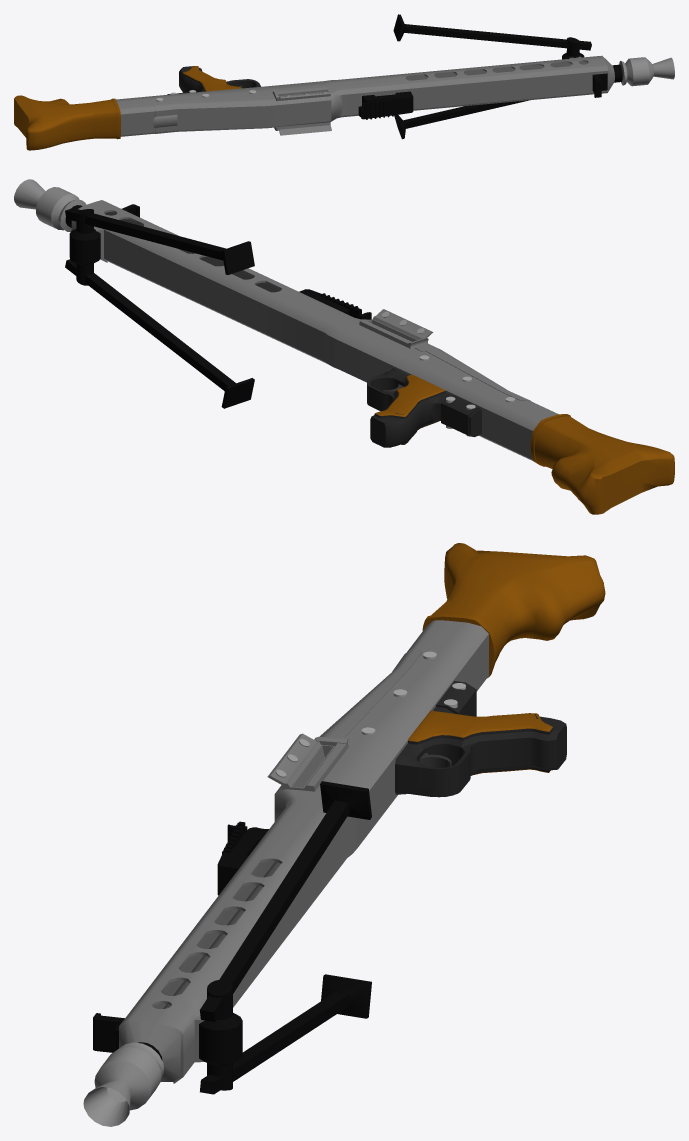
The picture shows the model from 3 angles, top to bottom: view 1: azimuth 30°, elevation 25°; view 2: azimuth 150°, elevation 25°; view 3: azimuth 270°, elevation 25°; orthographic projection. The views are drawn at different scales.
Parts seen in each view (by area): view 1: MG42; view 2: MG42; view 3: MG42.
Part boxes in pixels (x1,y1,x2,y2): MG42: (14, 14, 674, 150); MG42: (14, 179, 674, 514); MG42: (83, 543, 605, 1126).
Bounding box in the file's own units: 37.17 × 7.25 × 14.98.
2 materials, 2 textured.
